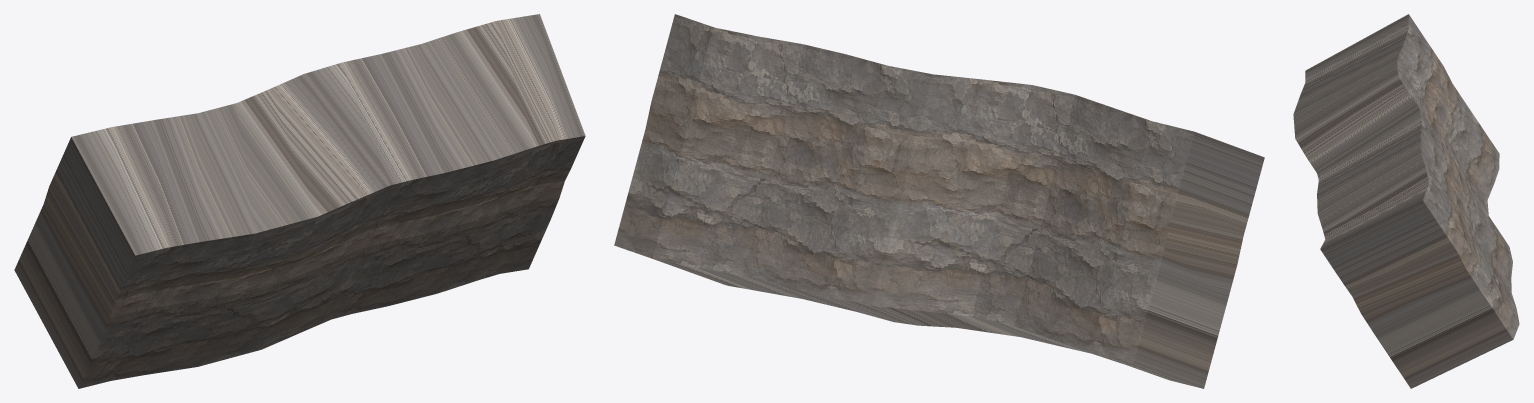
Rendered from cliff-bottom.glb.
3 renders of one model, left to right at view 1: azimuth 30°, elevation 25°; view 2: azimuth 150°, elevation 25°; view 3: azimuth 270°, elevation 25°, orthographic. The views are drawn at different scales.
Visible parts, largest first — view 1: cliff-bottom; view 2: cliff-bottom; view 3: cliff-bottom.
Boxes of the visible parts, x1,y1,x2,y2 form: cliff-bottom: (14,14,585,388); cliff-bottom: (614,14,1264,388); cliff-bottom: (1293,14,1519,388).
Size of the model in its own units: 4.01 by 1.97 by 2.05.
1 material, 1 textured.
